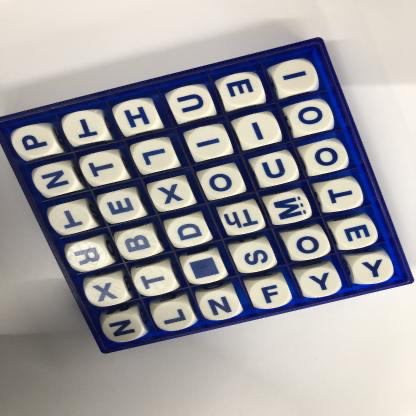b: (117, 231, 157, 259)
d: (168, 216, 210, 246)
e: (219, 76, 263, 108), (100, 193, 142, 224), (336, 220, 375, 249)
f: (250, 280, 288, 309)
h: (116, 100, 159, 133)
i: (237, 114, 283, 147), (274, 61, 319, 93), (189, 128, 229, 161)
l: (134, 139, 176, 172), (156, 302, 195, 332)
m: (269, 193, 311, 223)
n: (35, 165, 76, 198), (202, 292, 241, 320), (103, 315, 141, 343)
o: (286, 102, 332, 137), (201, 168, 243, 200), (306, 140, 347, 171), (288, 231, 328, 260)
p: (13, 127, 55, 158)
r: (68, 242, 110, 272)
s: (233, 242, 276, 271)
t: (64, 111, 109, 145), (319, 179, 364, 211), (82, 153, 124, 187), (51, 204, 90, 232), (137, 267, 176, 295)
th: (220, 206, 264, 236)
u: (254, 153, 297, 186), (172, 86, 212, 118)
wild: (185, 255, 224, 283)
x: (152, 178, 194, 210), (86, 278, 126, 307)
y: (298, 267, 342, 298), (352, 255, 392, 285)
